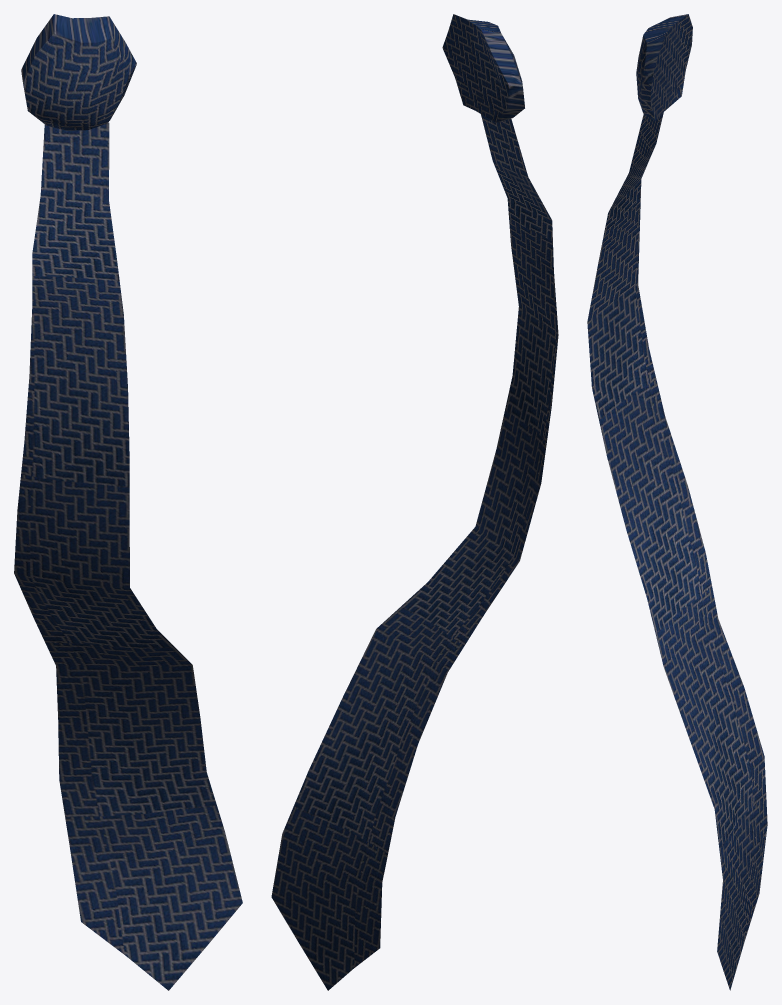
Rendered from Pose-9_SuitTie-3.fbx.
3 renders of one model, left to right at view 1: azimuth 30°, elevation 25°; view 2: azimuth 150°, elevation 25°; view 3: azimuth 270°, elevation 25°, orthographic. The views are drawn at different scales.
Visible parts, largest first — view 1: Pose-9_SuitTie-3; view 2: Pose-9_SuitTie-3; view 3: Pose-9_SuitTie-3.
Boxes of the visible parts, <box> form: Pose-9_SuitTie-3: <box>14,14,242,990</box>; Pose-9_SuitTie-3: <box>271,14,558,990</box>; Pose-9_SuitTie-3: <box>587,14,767,990</box>.
Size of the model in its own units: 12.64 by 48.16 by 8.58.
